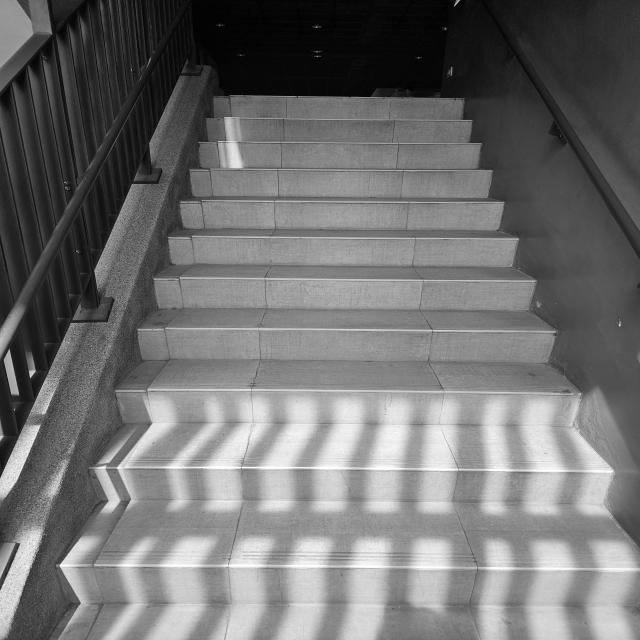floor: (58, 96, 638, 640)
